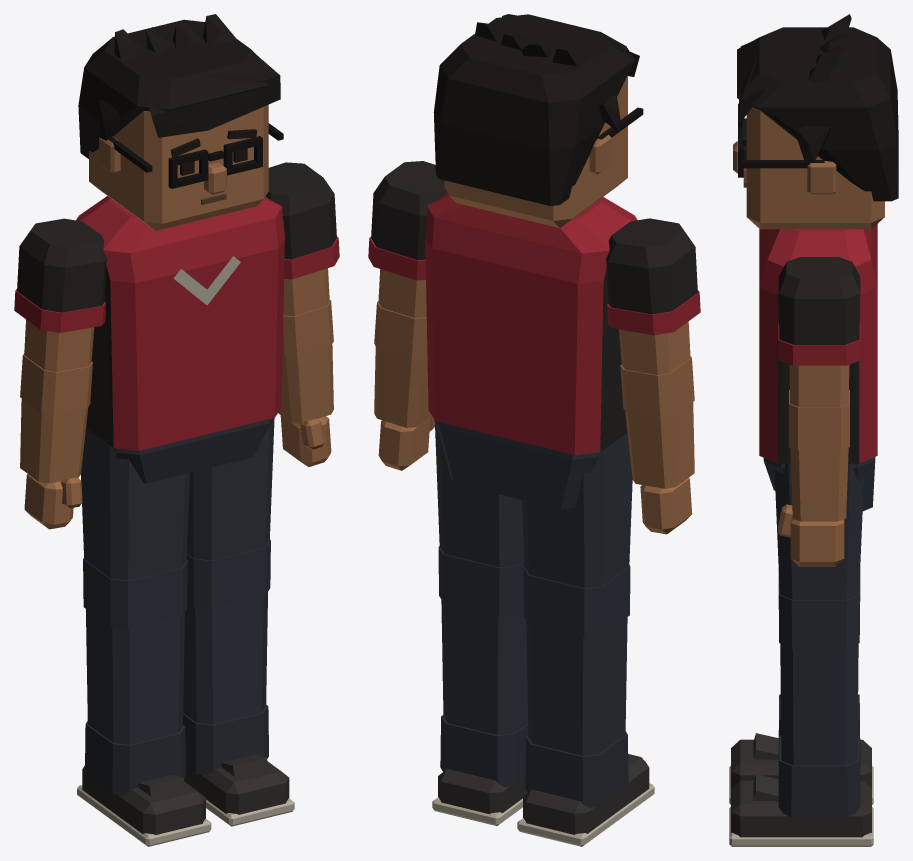
The model's file is tl_char_fan_glasses_v01.glb.
3 renders of one model, left to right at view 1: azimuth 30°, elevation 25°; view 2: azimuth 150°, elevation 25°; view 3: azimuth 270°, elevation 25°, orthographic. The views are drawn at different scales.
Parts seen in each view (by area): view 1: spine, head, leg_lower_r, leg_lower_l, leg_upper_r, arm_upper_r, arm_lower_r, leg_upper_l, arm_upper_l, arm_lower_l, hips; view 2: spine, head, leg_lower_r, leg_lower_l, arm_upper_r, leg_upper_r, arm_lower_r, hips, arm_upper_l, arm_lower_l, leg_upper_l; view 3: head, leg_lower_l, spine, arm_upper_l, arm_lower_l, leg_upper_l, leg_lower_r, hips.
Boxes of the visible parts, x1,y1,x2,y2 form: spine: (76,196,284,450); head: (78,14,283,230); leg_lower_r: (77,558,211,846); leg_lower_l: (183,540,294,826); leg_upper_r: (81,428,189,580); arm_upper_r: (14,218,106,371); arm_lower_r: (20,353,92,529); leg_upper_l: (187,418,274,560); arm_upper_l: (265,162,339,316); arm_lower_l: (278,300,333,466); hips: (114,418,273,483); spine: (425,193,637,454); head: (433,14,643,228); leg_lower_r: (517,565,654,846); leg_lower_l: (432,546,528,825); arm_upper_r: (606,218,700,375); leg_upper_r: (522,433,632,588); arm_lower_r: (620,356,694,534); hips: (434,419,598,509); arm_upper_l: (368,161,447,318); arm_lower_l: (374,301,434,470); leg_upper_l: (435,423,524,567); head: (733,14,898,229); leg_lower_l: (729,570,873,846); spine: (759,224,877,463); arm_upper_l: (778,257,860,406); arm_lower_l: (777,390,849,566); leg_upper_l: (774,463,863,599); leg_lower_r: (729,694,873,804); hips: (763,457,875,511).
Bounding box in the file's own units: 0.7194 × 1.76 × 0.3495.
